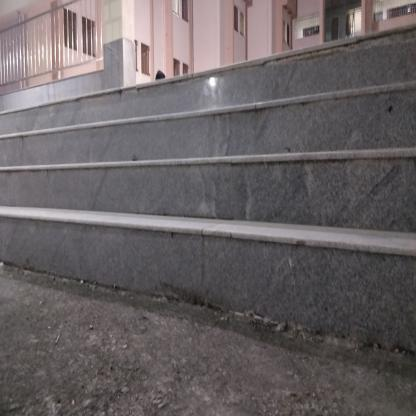stairs: (12, 102, 410, 279)
